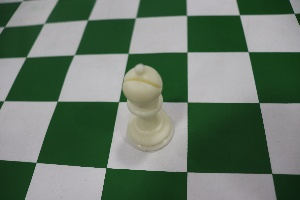white_bishop: (113, 56, 186, 155)
